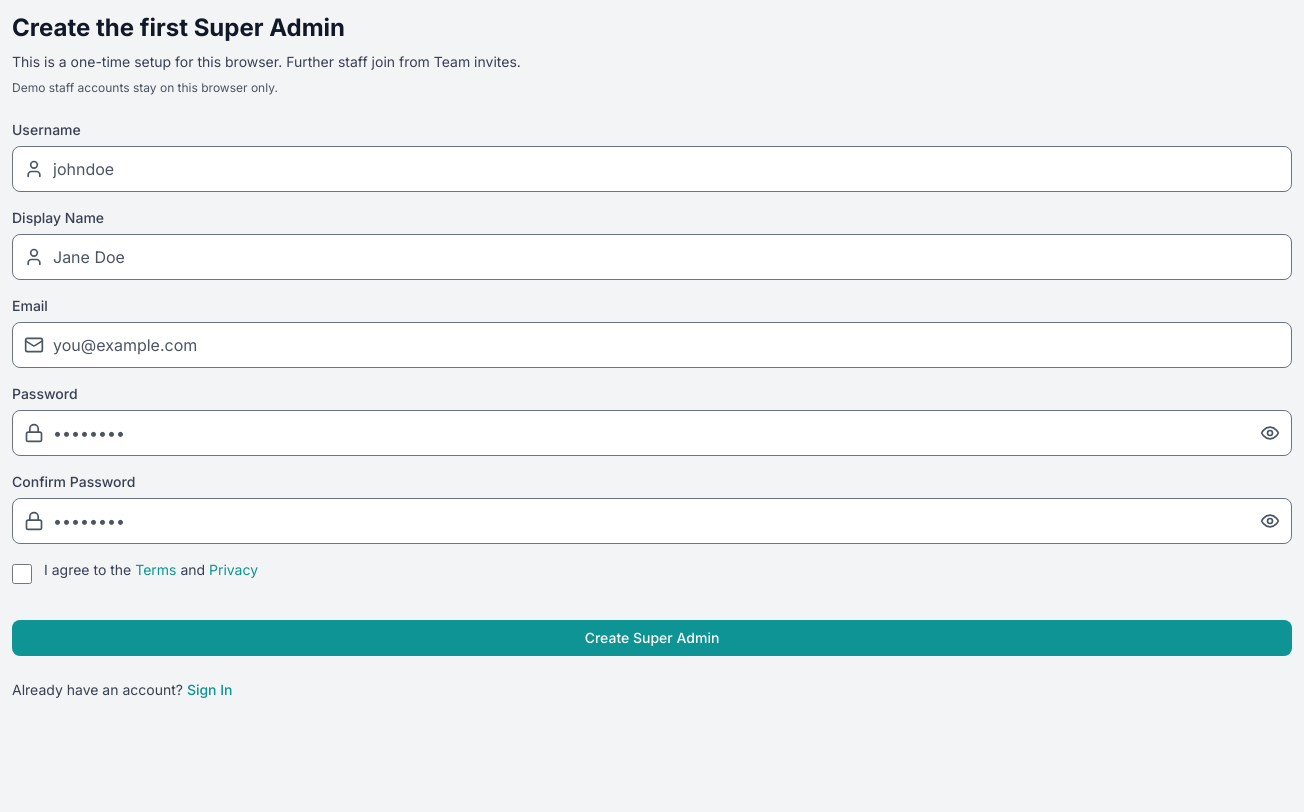
Test: SetupPage › rejects passwords shorter than 8 characters
The width and height of the screenshot is (1304, 812).
Type "newadmin" into the field labelled "Username" at (652, 169), box [12,146,1292,192]
Type "New Admin" into the field labelled "Display Name" at (652, 257), box [12,234,1292,280]
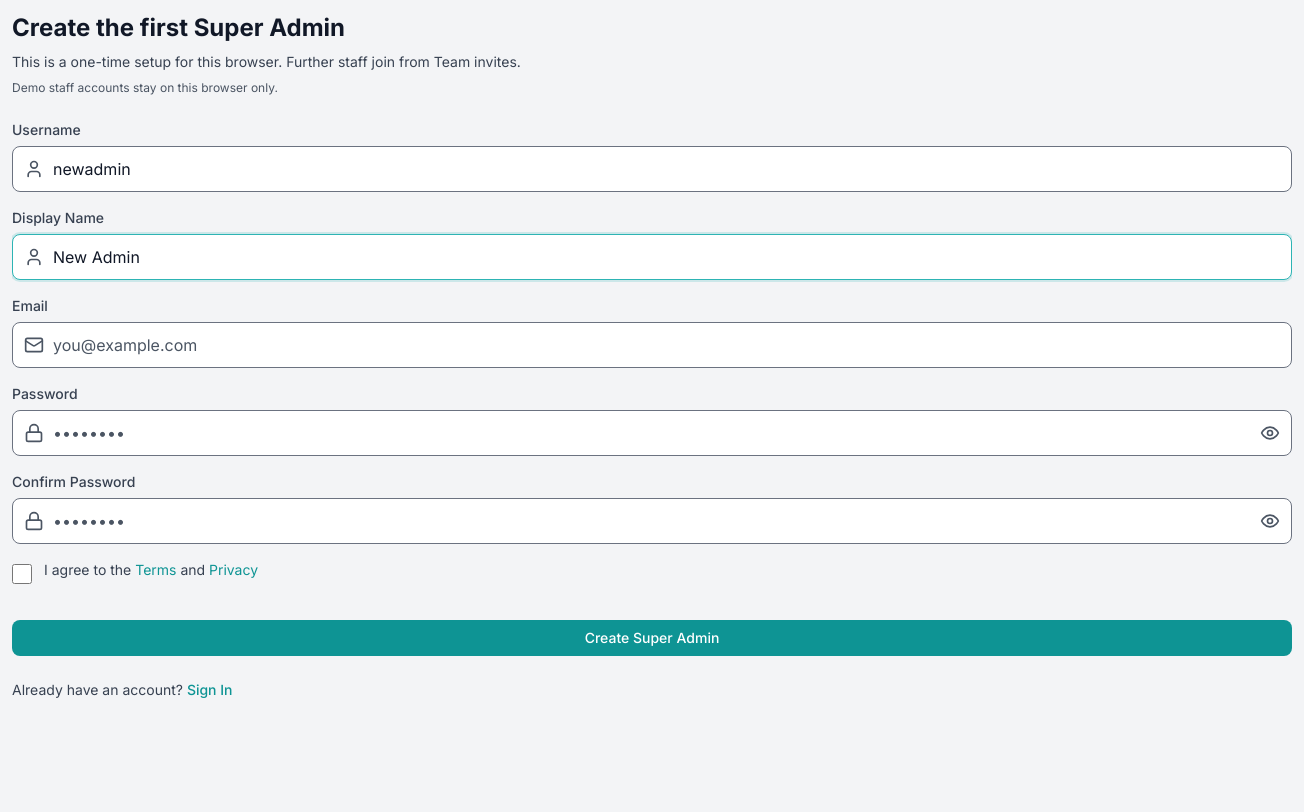
Type "new@softgate.test" into the field labelled "Email" at (652, 345), box [12,322,1292,368]
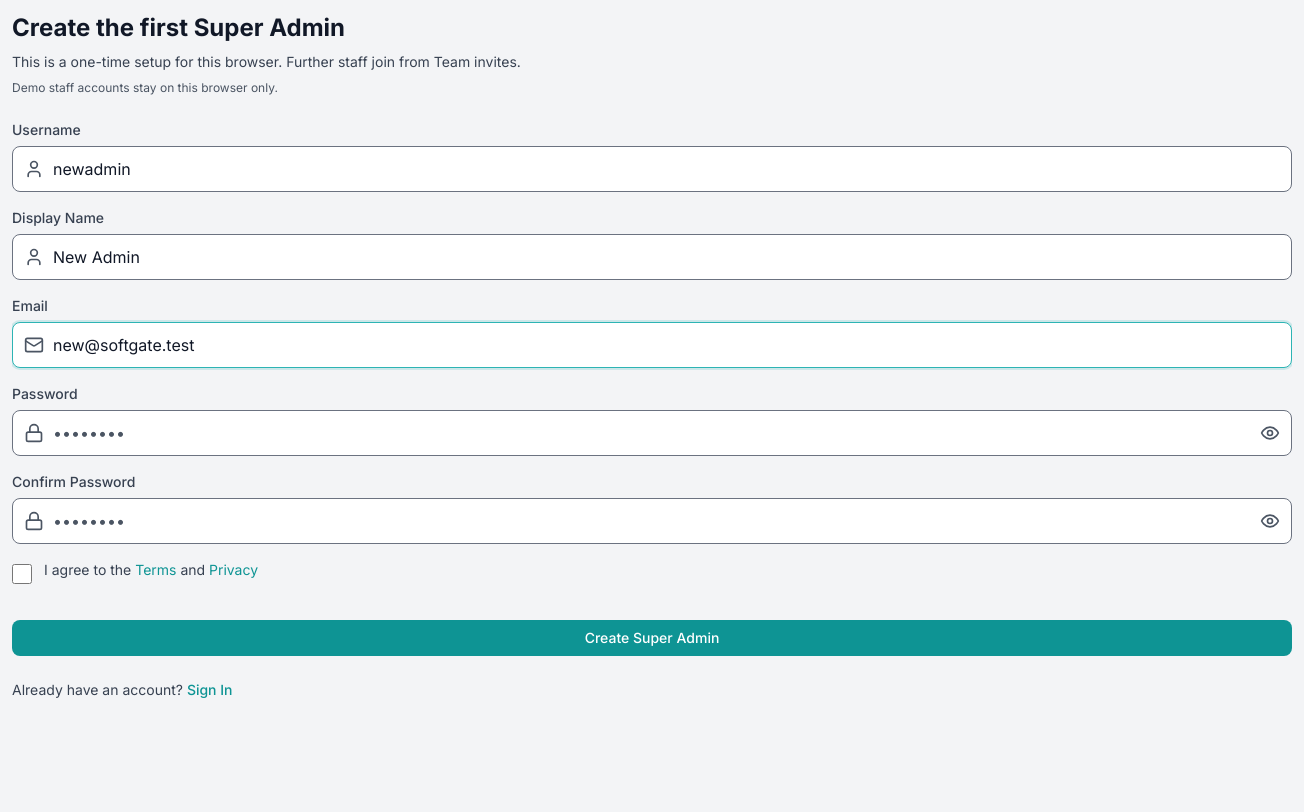
Type "secret1" into the password field with id "setup-password" at (652, 433), box [12,410,1292,456]
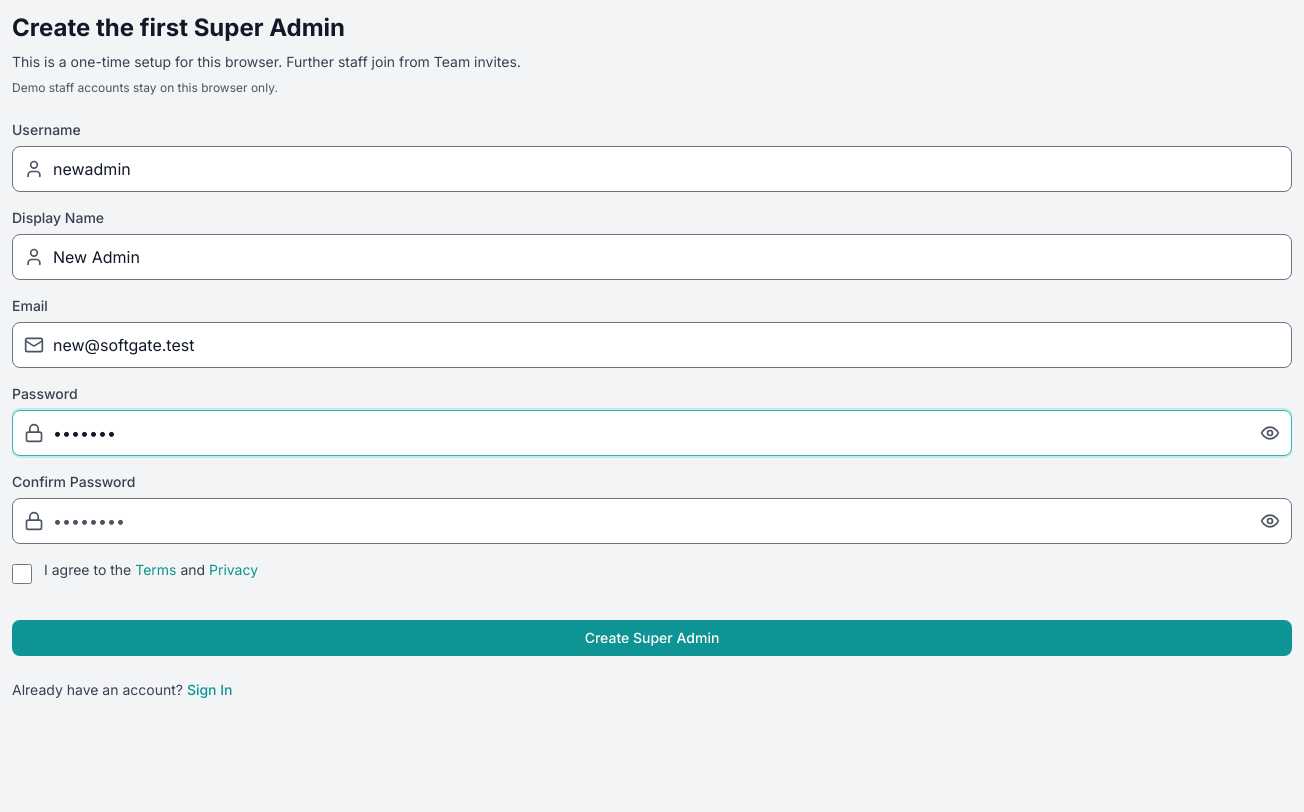
Type "secret1" into the password field with id "setup-confirm-password" at (652, 521), box [12,498,1292,544]
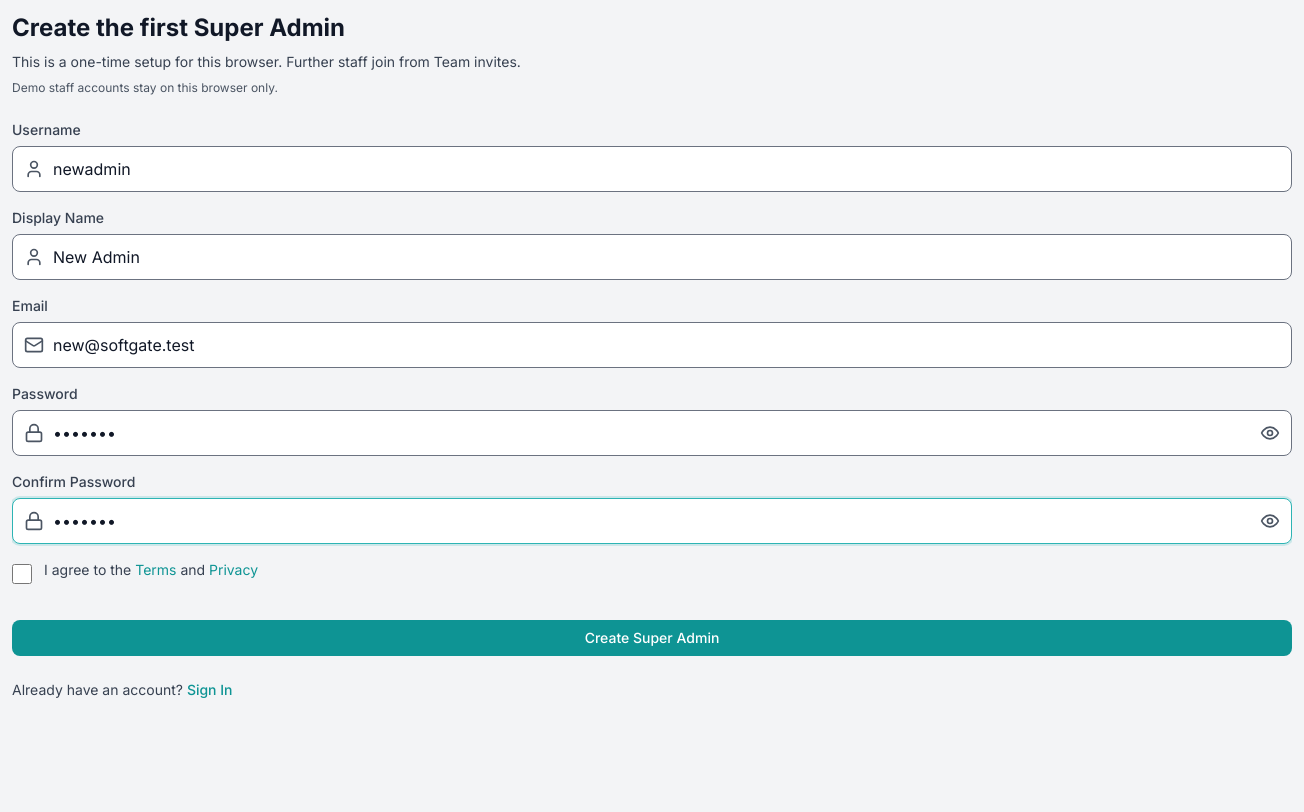
Click the checkbox at (22, 574), box [12,564,32,584]
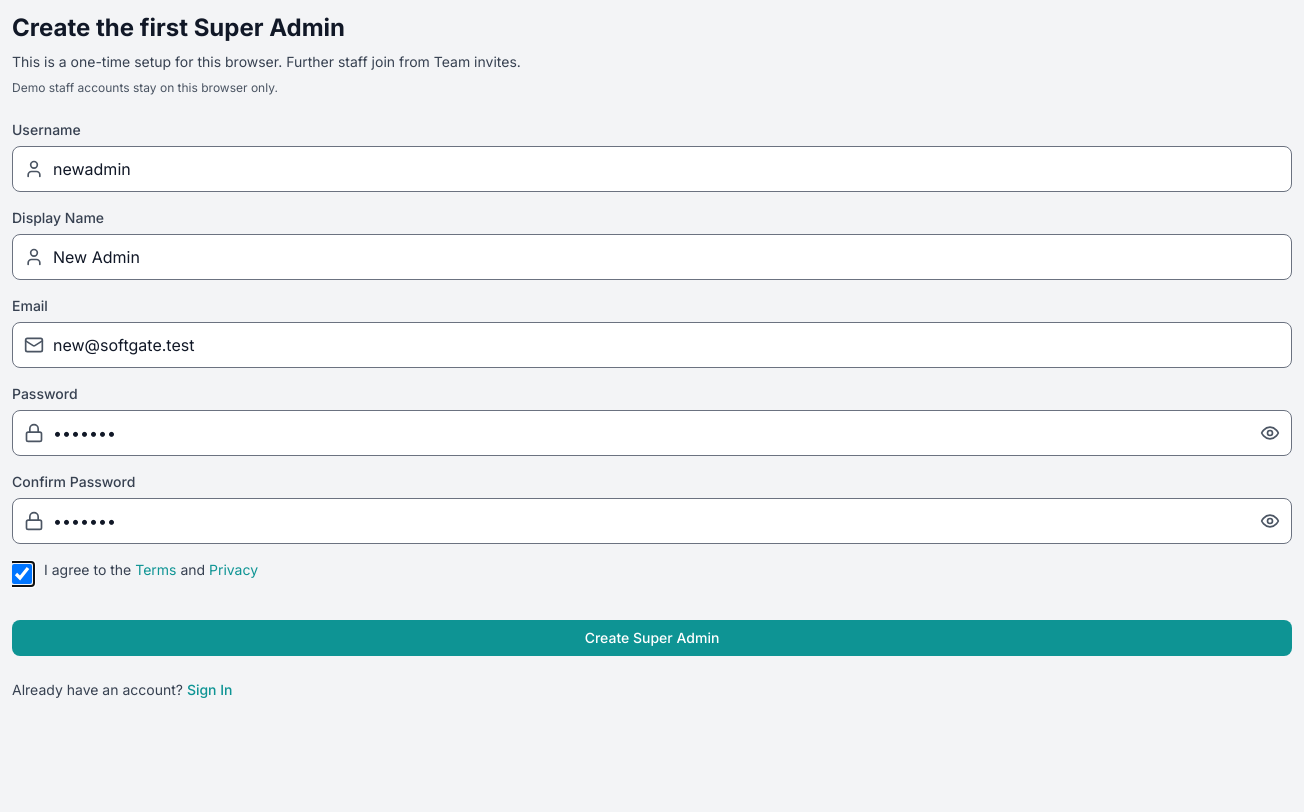
Click the button "Create Super Admin" at (652, 638), box [12,620,1292,656]
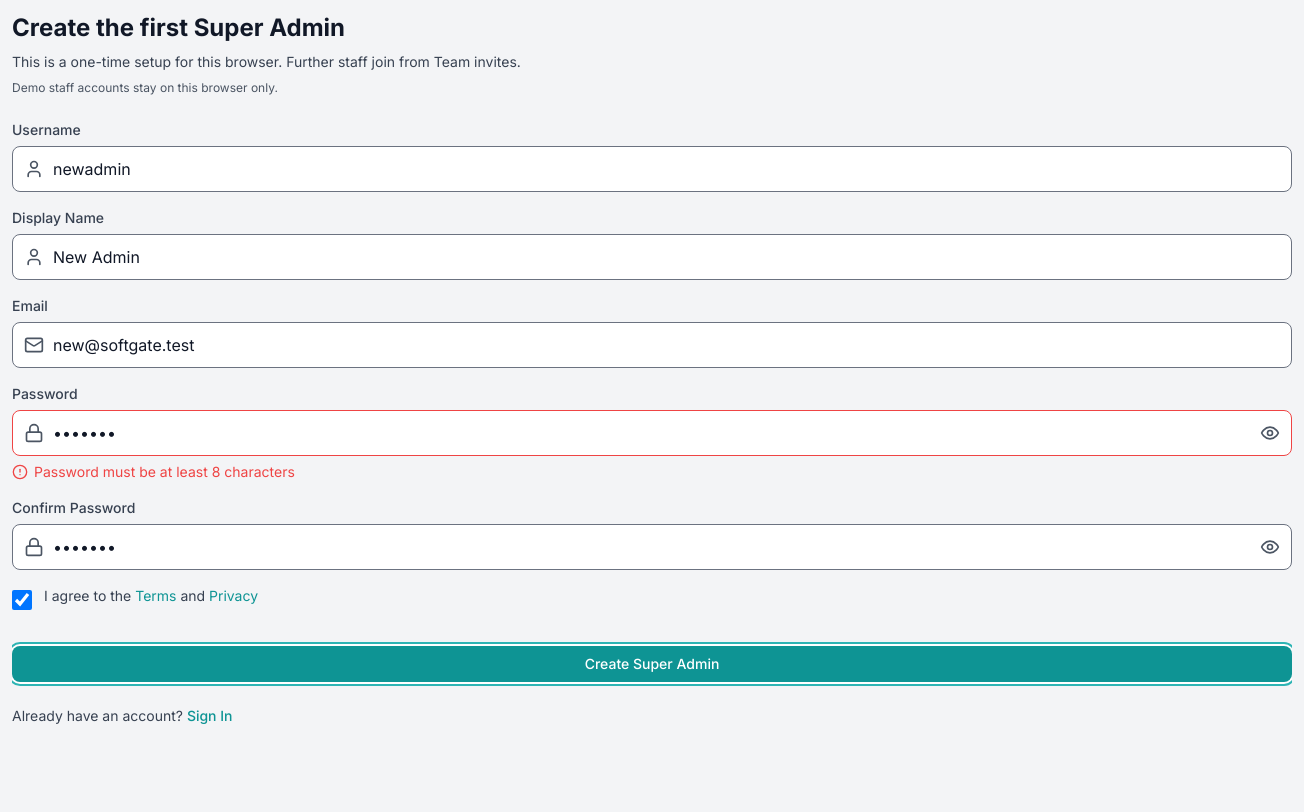
Result: the text "Password must be at least 8 characters" is shown at [34,462,295,482]
